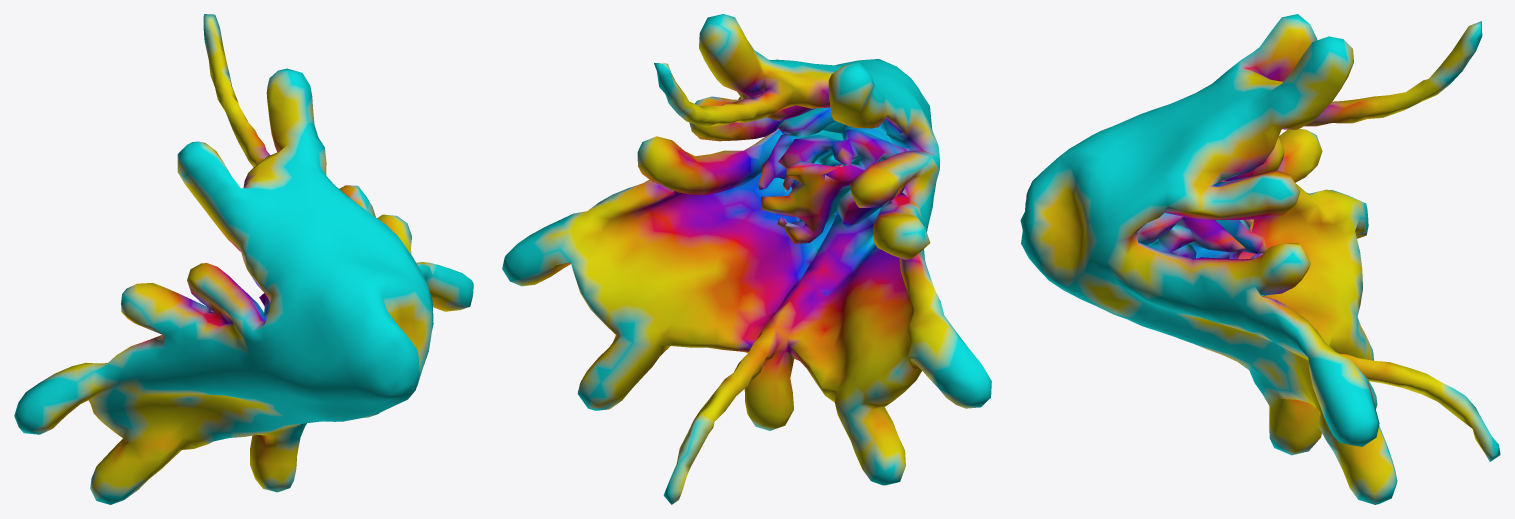
Rendered from jelly_57.gltf.
3 renders of one model, left to right at view 1: azimuth 30°, elevation 25°; view 2: azimuth 150°, elevation 25°; view 3: azimuth 270°, elevation 25°, orthographic. The views are drawn at different scales.
Visible parts, largest first — view 1: jellysquid3; view 2: jellysquid3; view 3: jellysquid3.
Part boxes in pixels (left/top/right/bottom): jellysquid3: left=14, top=14, right=473, bottom=504; jellysquid3: left=502, top=14, right=991, bottom=504; jellysquid3: left=1020, top=14, right=1500, bottom=504.
Size of the model in its own units: 14.53 by 12.53 by 12.2.
